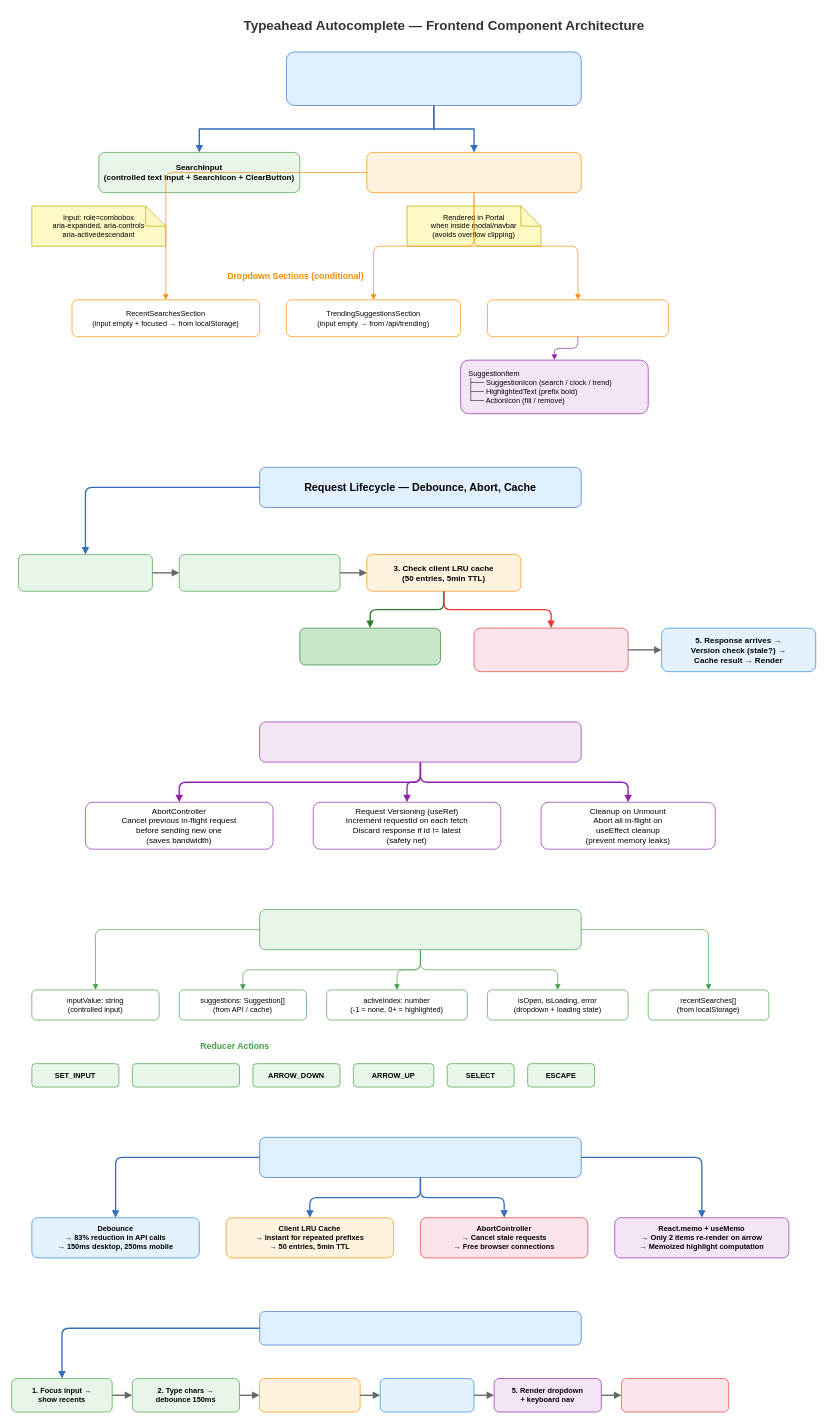
The diagram is 827 pixels wide and 1424 high, and some of its shapes have lost their labels. The box of each missing label's shape, as (x1, y1, x2, y2) in pixels:
1. User types character (onChange fires): (18, 554, 152, 591)
2. Debounce timer starts (150ms desktop / 250ms mobile): (179, 554, 340, 591)
3. Check cache → hit or miss: (259, 1378, 360, 1412)
4. Abort prev + fetch API: (380, 1378, 474, 1412)
4a. Cache HIT → Render instantly (0ms): (299, 627, 441, 665)
4b. Cache MISS → Abort previous fetch → Fire new API request: (473, 627, 628, 672)
6. Select / Enter → execute search: (621, 1378, 729, 1412)
Complete Typeahead Flow: (259, 1311, 581, 1345)
Performance Optimization: (259, 1137, 581, 1178)
Race Condition Prevention: (259, 721, 581, 762)
SET_SUGGESTIONS: (132, 1063, 240, 1087)
State Management (useReducer): (259, 909, 581, 950)
SuggestionDropdown (Portal / conditional render — role=listbox): (366, 152, 581, 193)
SuggestionList (input has value → API results → role=option): (487, 299, 668, 337)
TypeaheadContainer — Owns all state (useReducer), debounce, fetch, cache: (286, 51, 581, 106)
